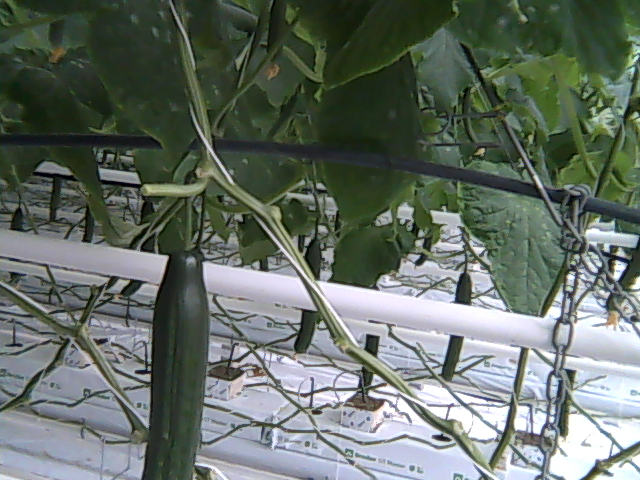concombre: (138, 225, 216, 480)
